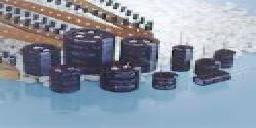Electrolytic Capacitor: (64, 27, 116, 70), (119, 33, 161, 72), (21, 42, 62, 74), (47, 66, 85, 99), (191, 65, 246, 87), (100, 64, 141, 93), (169, 27, 189, 74), (151, 69, 181, 94)
